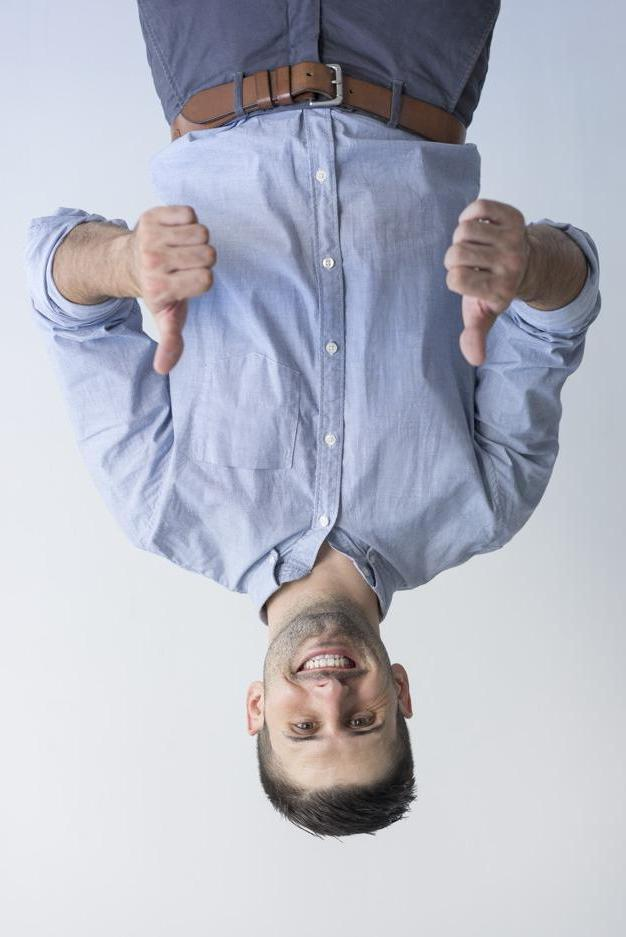thumbsdown: (444, 199, 530, 367), (136, 205, 217, 375)
